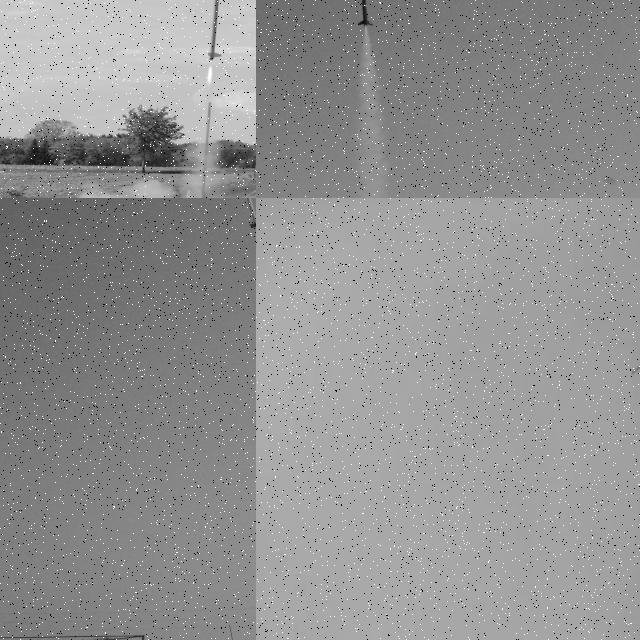Rocket: (205, 0, 222, 60), (241, 198, 256, 228), (358, 0, 373, 26), (631, 354, 640, 374)
